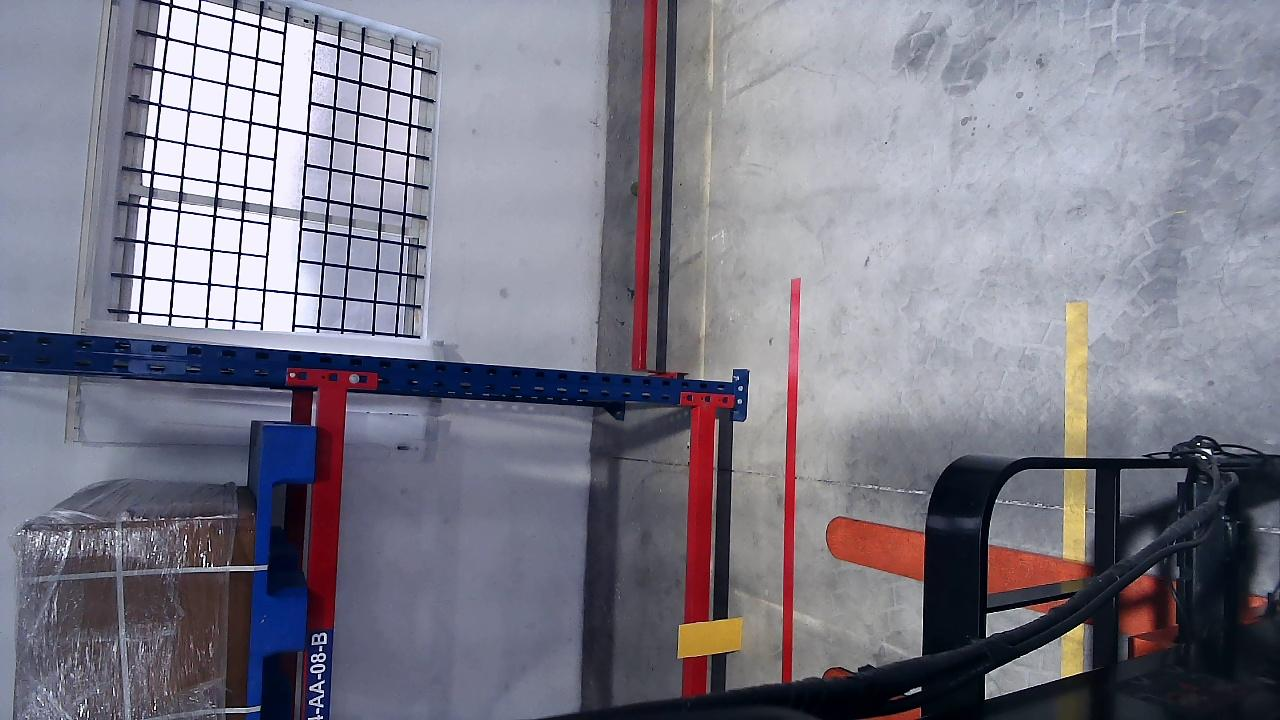h_rack: (314, 392, 335, 717), (690, 406, 709, 689)
orange_strip: (680, 624, 738, 655)
red_line: (785, 279, 800, 681)
small_pallet: (252, 427, 318, 719)
yellow_line: (1063, 300, 1091, 671)
